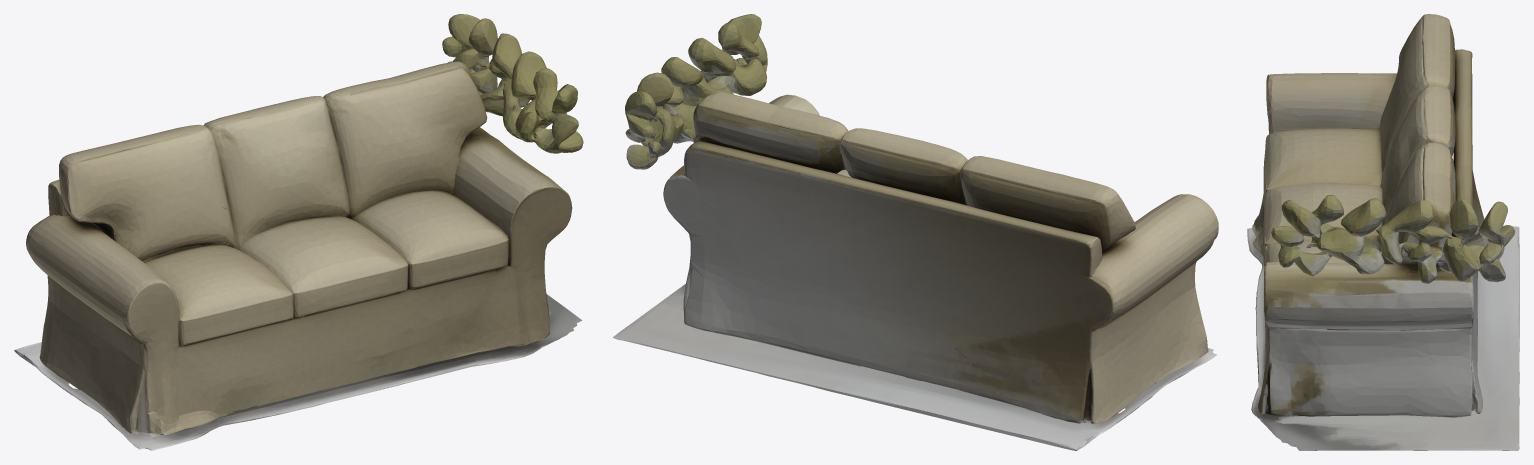
File: trellis.glb
3 renders of one model, left to right at view 1: azimuth 30°, elevation 25°; view 2: azimuth 150°, elevation 25°; view 3: azimuth 270°, elevation 25°, orthographic.
Visible parts, largest first — view 1: world; view 2: world; view 3: world.
Part boxes in pixels (box(x1,y1,x2,y2)): world: box(14, 14, 583, 450); world: box(613, 14, 1218, 450); world: box(1247, 14, 1519, 450).
Bounding box in the file's own units: 1 × 0.5074 × 0.5011.
Materials: 1 (1 with a texture image).
